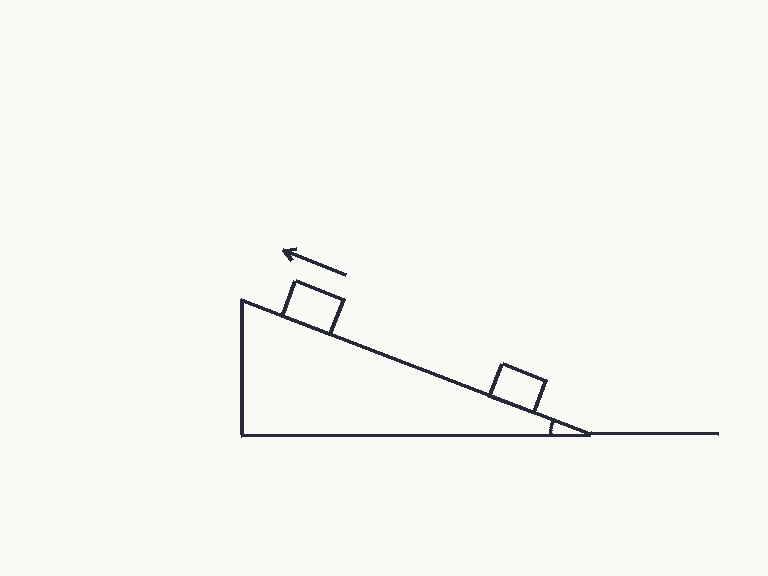block: (279, 279, 344, 336), (487, 361, 546, 414)
ramp: (239, 298, 592, 436)
